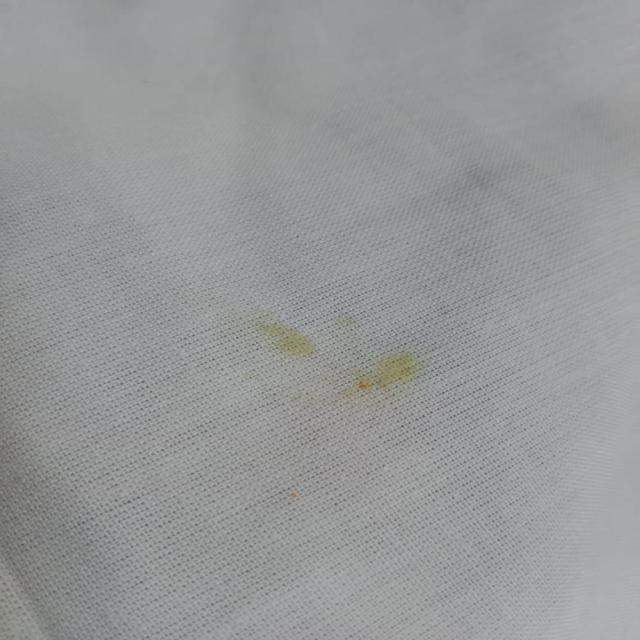stain: (241, 305, 434, 409)
